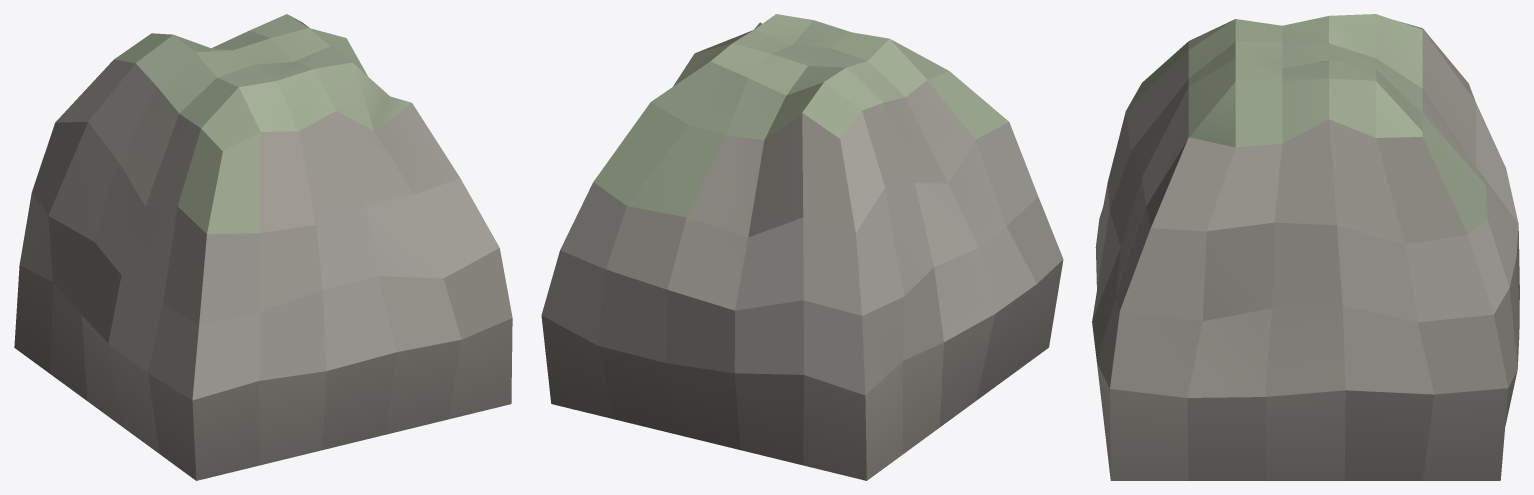
Rendered from roca_suelta_2.glb.
3 views of the same model, side by side, from view 1: azimuth 30°, elevation 25°; view 2: azimuth 150°, elevation 25°; view 3: azimuth 270°, elevation 25° (orthographic). The views are drawn at different scales.
Visible parts, largest first — view 1: propforge-cuartos-roca_suelta; view 2: propforge-cuartos-roca_suelta; view 3: propforge-cuartos-roca_suelta.
Boxes of the visible parts, <box> form: propforge-cuartos-roca_suelta: <box>14,14,512,480</box>; propforge-cuartos-roca_suelta: <box>541,14,1063,480</box>; propforge-cuartos-roca_suelta: <box>1092,14,1519,480</box>.
Bounding box in the file's own units: 0.8855 × 0.8033 × 0.8777.
